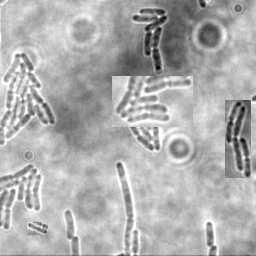Dividing: (114, 161, 133, 255), (204, 221, 215, 248)
Microcolony: (1, 51, 56, 147), (112, 76, 193, 127), (1, 162, 44, 231), (130, 8, 167, 72), (225, 100, 251, 178), (124, 128, 160, 153), (63, 208, 74, 240)
Rod: (27, 222, 48, 235)
